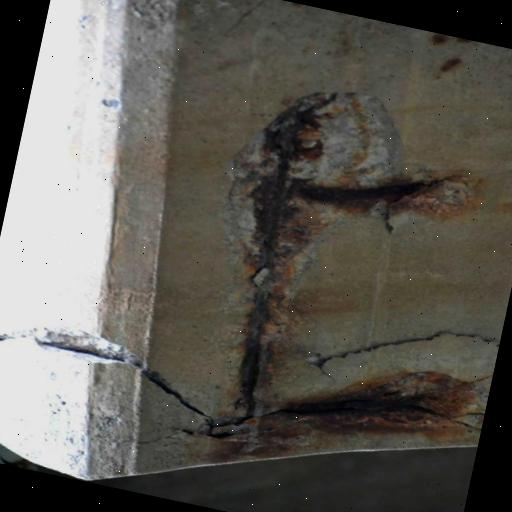spalling: (199, 93, 474, 442), (0, 318, 207, 425), (303, 319, 496, 371)
